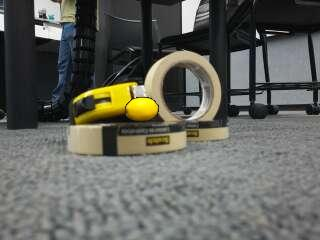lemon: (125, 97, 158, 122)
